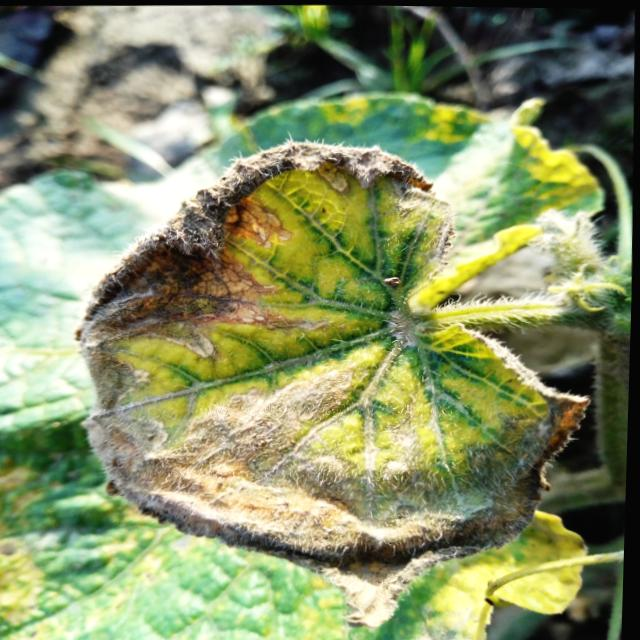Gummy-Stem-Blight: (71, 139, 596, 629)
